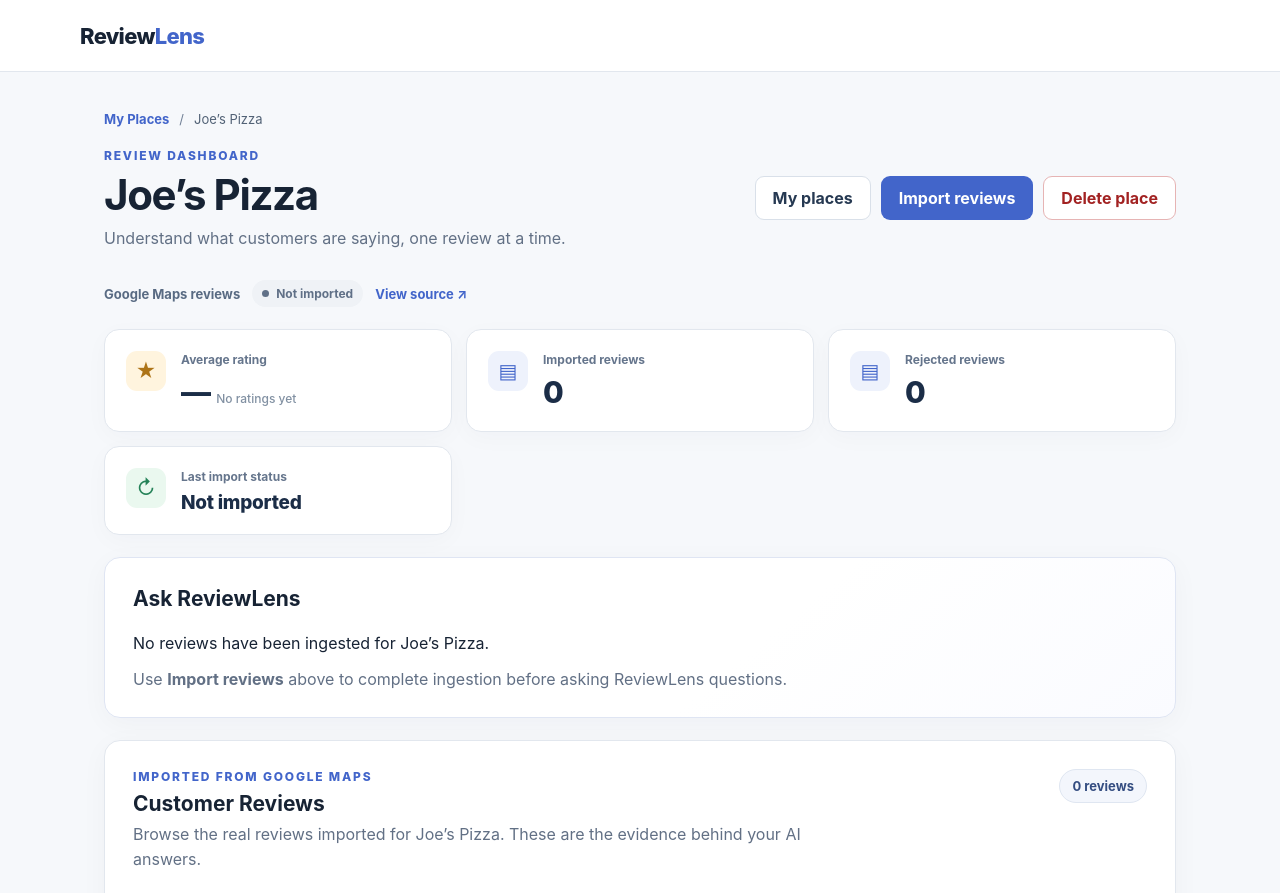
Test case: App › uses the refresh fallback when ingestion and refresh reject non-Errors
The image size is (1280, 893).
Step 1. Click the button "Import reviews" → (957, 198), box [881, 176, 1033, 220]
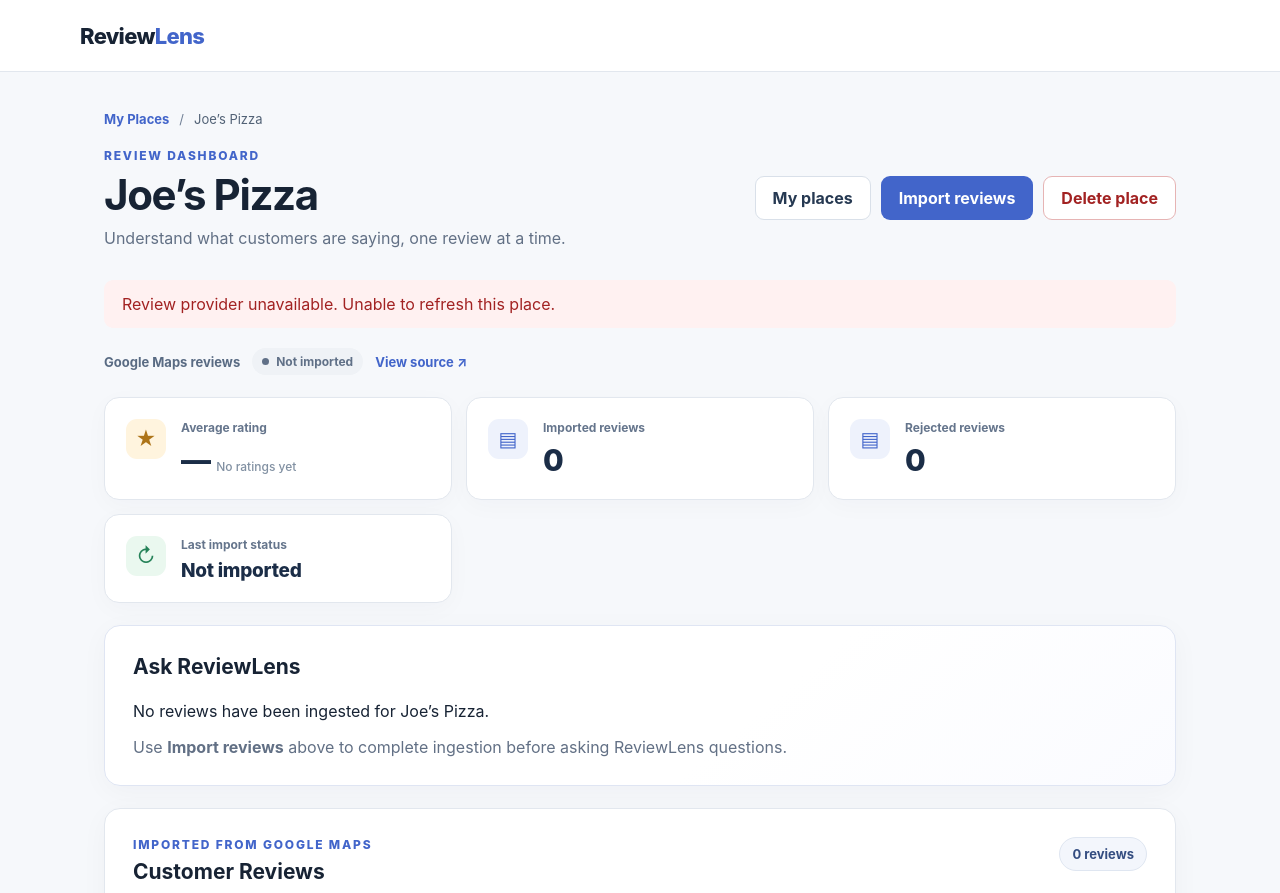
Now the message reads "Review provider unavailable. Unable to refresh this place.", box [122, 294, 555, 314]
